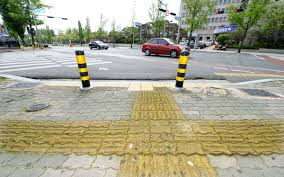guide_blocks: (1, 120, 284, 152), (121, 156, 215, 177), (132, 88, 182, 118), (157, 81, 224, 87), (46, 82, 129, 86), (130, 83, 153, 90)
